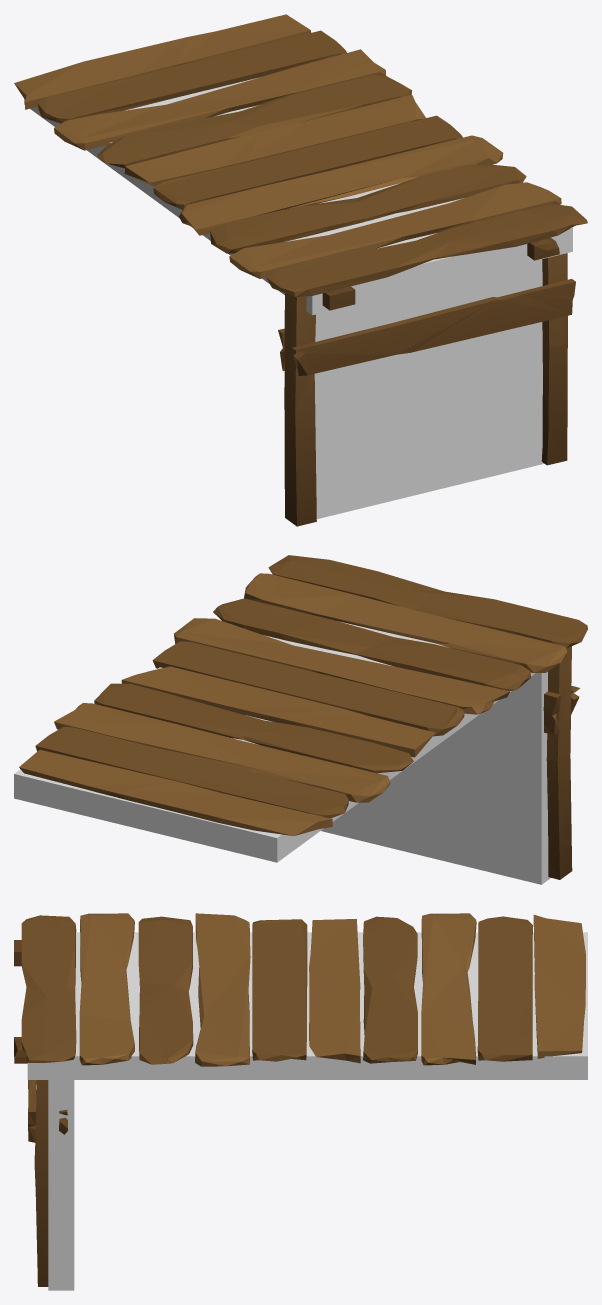
The model's file is modular_wood_2.glb.
3 renders of one model, top to bottom at view 1: azimuth 30°, elevation 25°; view 2: azimuth 150°, elevation 25°; view 3: azimuth 270°, elevation 25°, orthographic. The views are drawn at different scales.
Parts seen in each view (by area): view 1: ModularWood_02, Cube.011, Cube.001; view 2: ModularWood_02, Cube.011, Cube.001; view 3: ModularWood_02, Cube.001, Cube.011.
Boxes of the visible parts, x1,y1,x2,y2 form: ModularWood_02: (14,14,587,526); Cube.011: (314,259,544,519); Cube.001: (24,77,572,315); ModularWood_02: (19,555,587,879); Cube.011: (321,671,550,884); Cube.001: (14,621,535,862); ModularWood_02: (14,913,585,1286); Cube.001: (27,932,587,1079); Cube.011: (48,1059,74,1290).
Size of the model in its own units: 1.8 by 1.34 by 2.91.
1 material, 1 textured.
